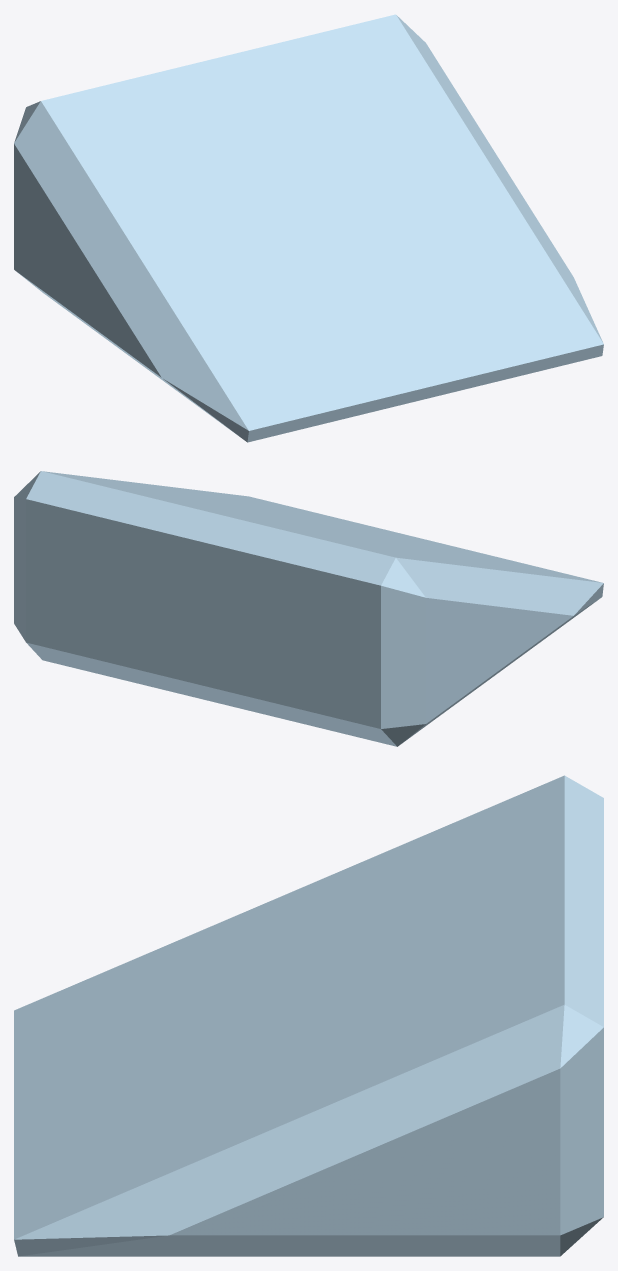
Rendered from R4B_HalfWedge.fbx.
The picture shows the model from 3 angles, top to bottom: view 1: azimuth 30°, elevation 25°; view 2: azimuth 150°, elevation 25°; view 3: azimuth 270°, elevation 25°; orthographic projection. The views are drawn at different scales.
Visible parts, largest first — view 1: R4B_HalfWedge; view 2: R4B_HalfWedge; view 3: R4B_HalfWedge.
Part boxes in pixels (x1,y1,x2,y2): R4B_HalfWedge: [14, 14, 603, 442]; R4B_HalfWedge: [14, 471, 603, 746]; R4B_HalfWedge: [14, 775, 603, 1256].
Size of the model in its own units: 0.52 by 0.2297 by 0.4874.
